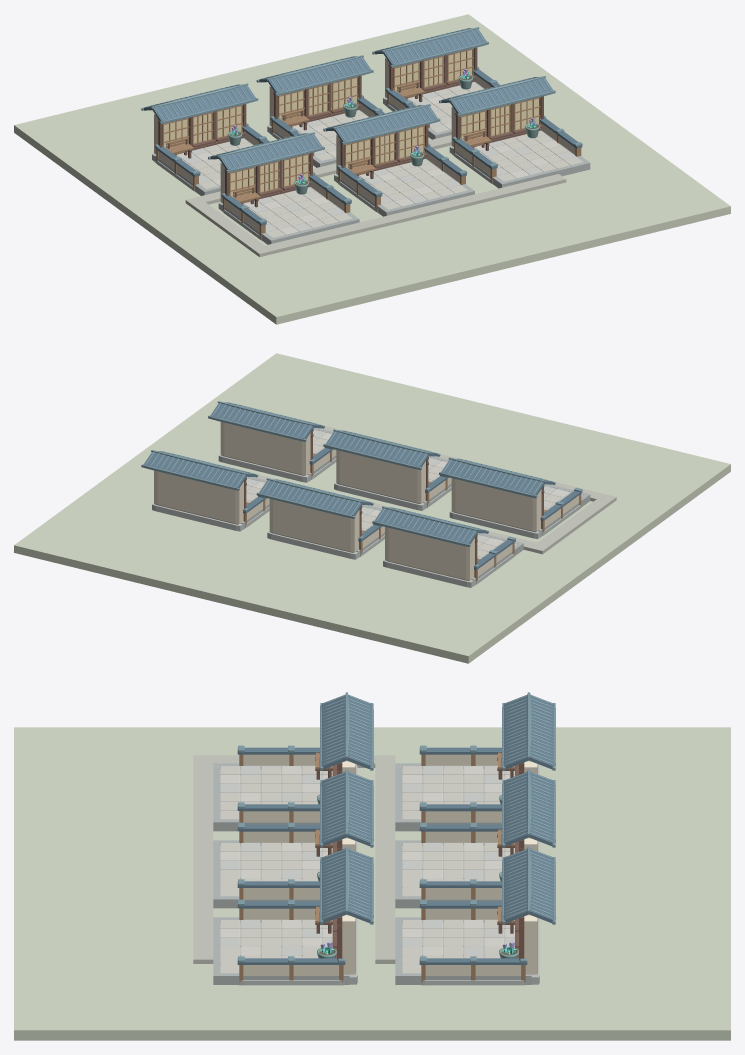
File: gggame_courtyard_paving_soft_v3_06.glb
3 renders of one model, top to bottom at view 1: azimuth 30°, elevation 25°; view 2: azimuth 150°, elevation 25°; view 3: azimuth 270°, elevation 25°, orthographic. The views are drawn at different scales.
Visible parts, largest first — view 1: ground, home-3-decor, home-5-decor, home-4-decor, home-0-decor, home-1-decor, home-2-decor, home-5-floor, home-3-floor, home-4-floor, home-0-floor, home-1-floor (+4 smaller); view 2: ground, home-3-decor, home-0-decor, home-1-decor, home-5-decor, home-4-decor, home-2-decor, walkway-spine, home-0-floor, home-3-floor; view 3: ground, home-5-decor, home-2-decor, home-0-decor, home-1-decor, home-4-decor, home-3-decor, home-2-floor, home-5-floor, home-0-floor, home-1-floor, home-3-floor (+6 smaller).
Part boxes in pixels (left/top/right/bottom): ground: left=14, top=14, right=730, bottom=324; home-3-decor: left=208, top=132, right=351, bottom=240; home-5-decor: left=439, top=76, right=582, bottom=183; home-4-decor: left=323, top=104, right=467, bottom=211; home-0-decor: left=141, top=83, right=269, bottom=191; home-1-decor: left=256, top=55, right=384, bottom=155; home-2-decor: left=372, top=27, right=500, bottom=127; home-5-floor: left=452, top=130, right=590, bottom=188; home-3-floor: left=221, top=187, right=359, bottom=244; home-4-floor: left=336, top=158, right=474, bottom=216; home-0-floor: left=154, top=138, right=253, bottom=195; home-1-floor: left=270, top=110, right=368, bottom=167; ground: left=14, top=353, right=730, bottom=663; home-3-decor: left=439, top=457, right=582, bottom=538; home-0-decor: left=372, top=506, right=515, bottom=587; home-1-decor: left=256, top=478, right=384, bottom=559; home-5-decor: left=208, top=401, right=336, bottom=482; home-4-decor: left=323, top=429, right=451, bottom=510; home-2-decor: left=141, top=450, right=269, bottom=531; walkway-spine: left=530, top=494, right=616, bottom=554; home-0-floor: left=471, top=533, right=523, bottom=585; home-3-floor: left=538, top=484, right=590, bottom=537; ground: left=14, top=727, right=730, bottom=1040; home-5-decor: left=237, top=846, right=373, bottom=985; home-2-decor: left=419, top=846, right=555, bottom=985; home-0-decor: left=419, top=692, right=555, bottom=822; home-1-decor: left=419, top=769, right=555, bottom=899; home-4-decor: left=237, top=769, right=373, bottom=899; home-3-decor: left=237, top=692, right=373, bottom=822; home-2-floor: left=395, top=917, right=531, bottom=984; home-5-floor: left=213, top=917, right=349, bottom=984; home-0-floor: left=395, top=763, right=514, bottom=831; home-1-floor: left=395, top=840, right=514, bottom=908; home-3-floor: left=213, top=763, right=332, bottom=831.
Bounding box in the file's own units: 25.2 × 3.43 × 25.2.
